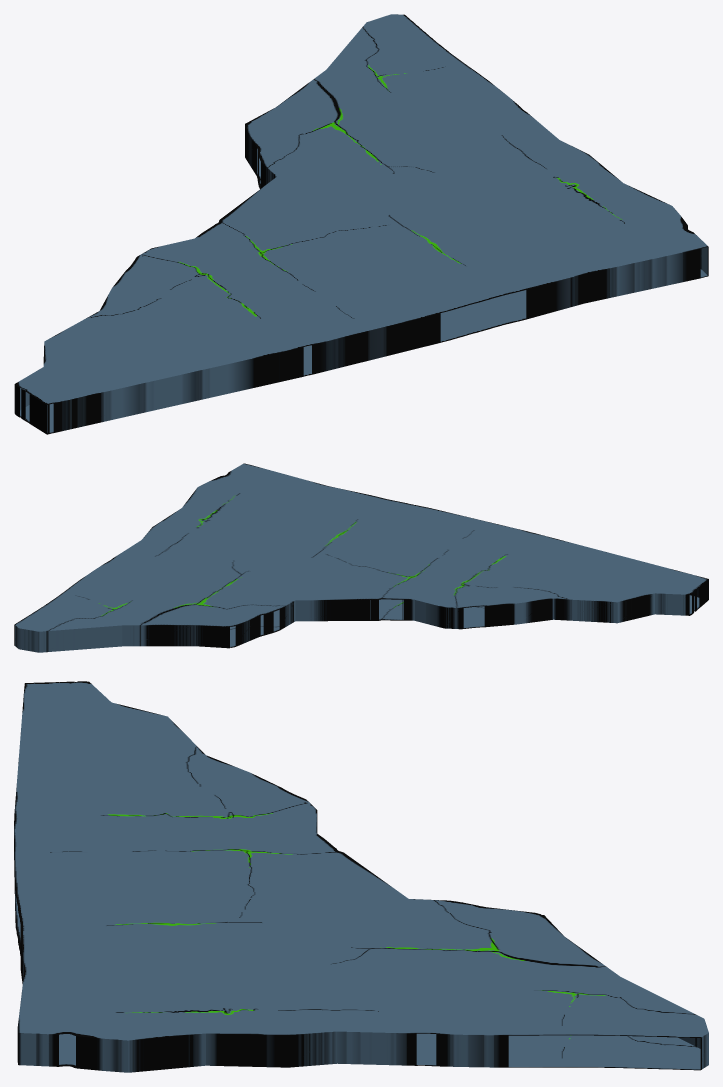
File: destroyed wall portion.fbx
The picture shows the model from 3 angles, top to bottom: view 1: azimuth 30°, elevation 25°; view 2: azimuth 150°, elevation 25°; view 3: azimuth 270°, elevation 25°; orthographic projection. The views are drawn at different scales.
Visible parts, largest first — view 1: Untitled_Artwork 11; view 2: Untitled_Artwork 11; view 3: Untitled_Artwork 11.
Part boxes in pixels (box(x1,y1,x2,y2)): Untitled_Artwork 11: box(14, 14, 708, 434); Untitled_Artwork 11: box(14, 463, 708, 652); Untitled_Artwork 11: box(14, 681, 708, 1072).
Size of the model in its own units: 77.27 by 3.23 by 63.14.
